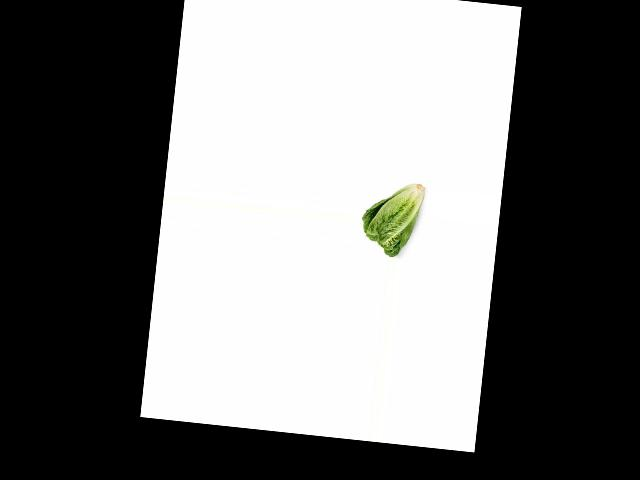lettuce: (358, 177, 427, 259)
